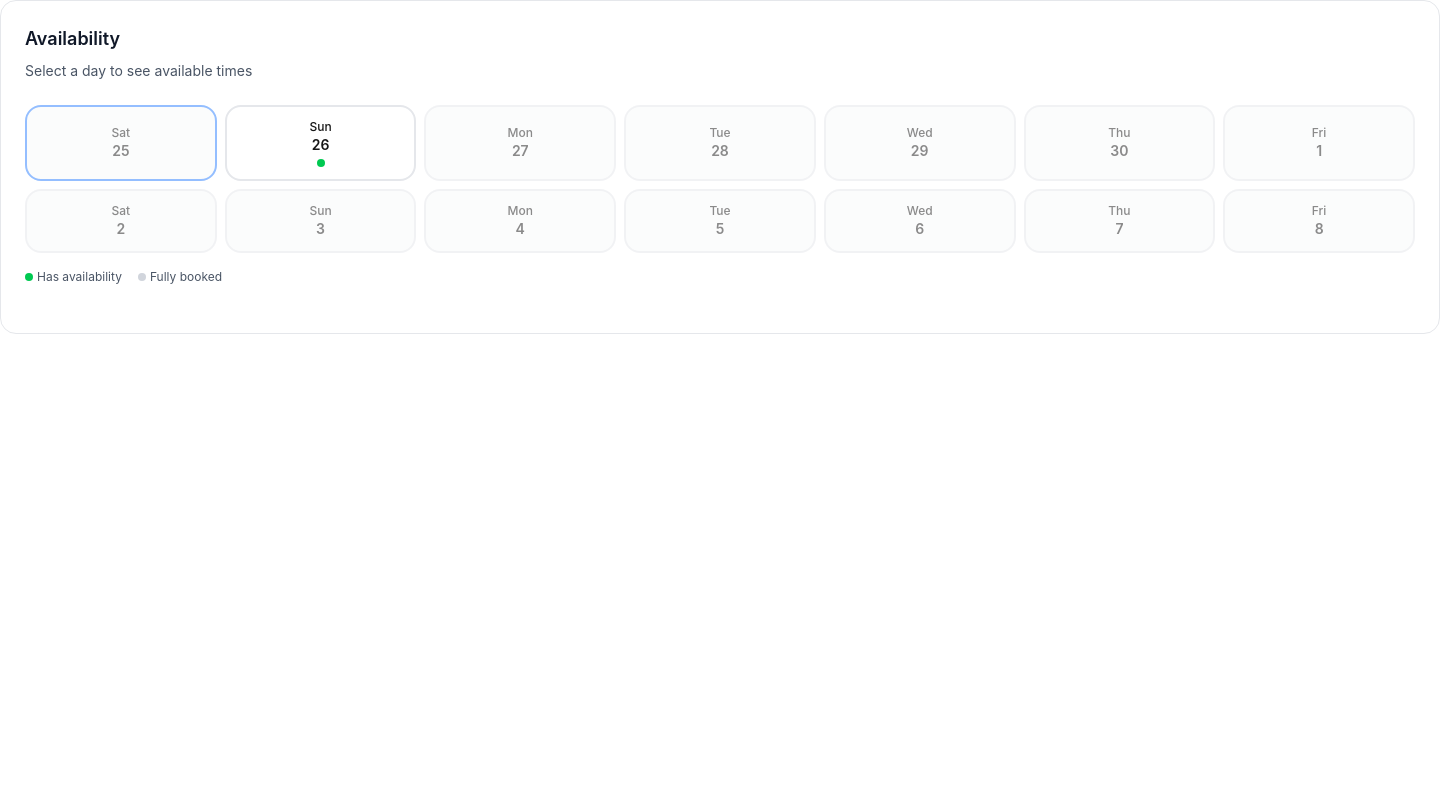
AvailabilityCalendar › time formatting › formats times correctly
Click the button "Sun 26" at (321, 143), box [225, 105, 416, 181]
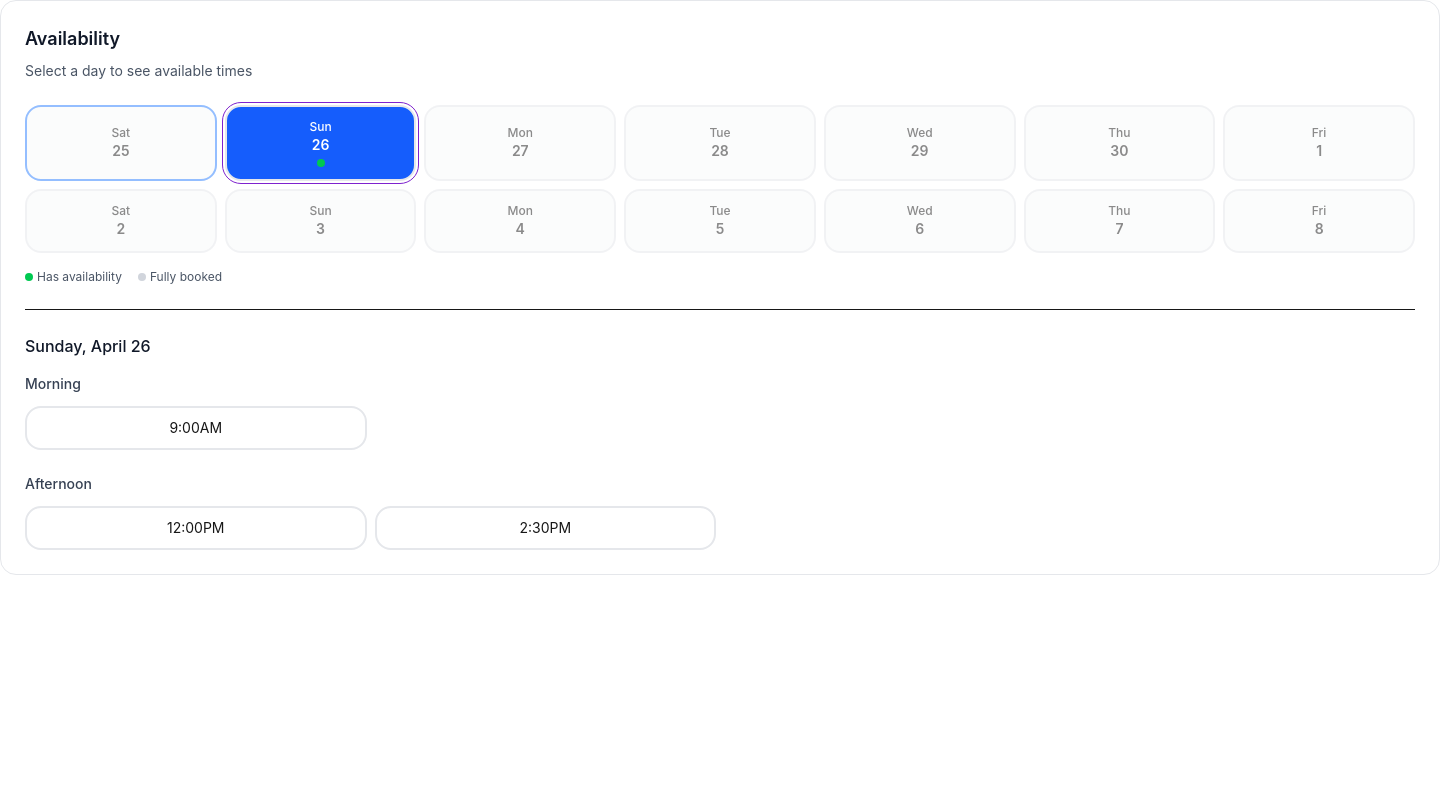
Now the button "9:00AM" is shown, box [25, 406, 366, 450]
Now the button "12:00PM" is shown, box [25, 506, 366, 550]
Now the button "2:30PM" is shown, box [374, 506, 716, 550]
